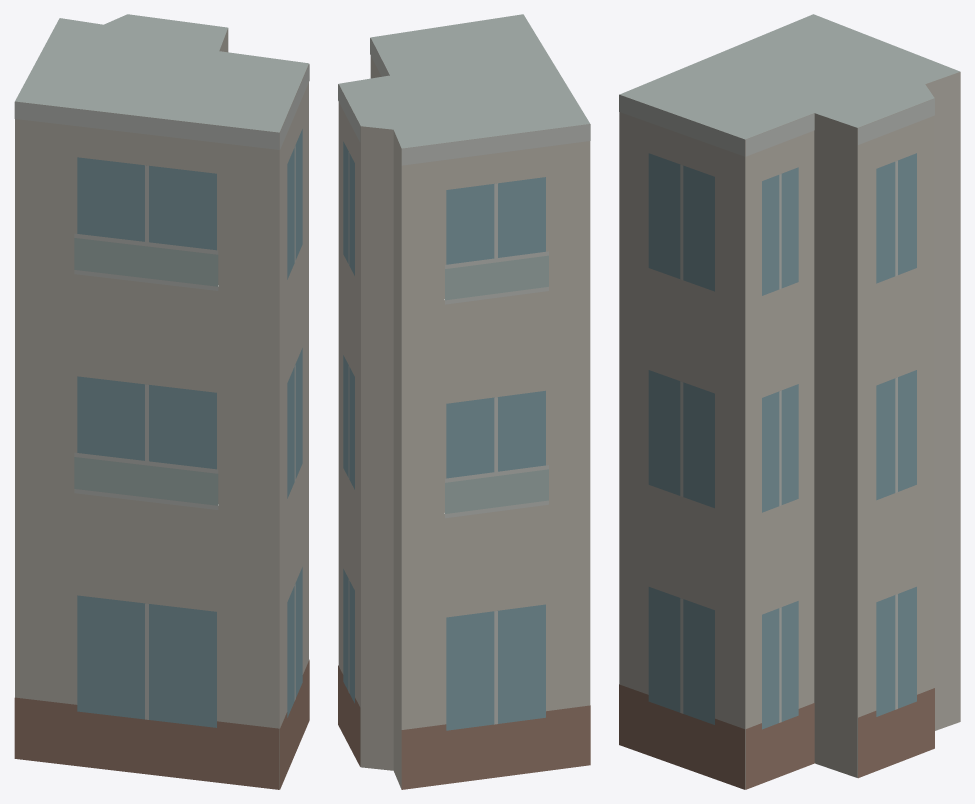
The model's file is survey-upis-32904626.glb.
3 views of the same model, side by side, from view 1: azimuth 30°, elevation 25°; view 2: azimuth 150°, elevation 25°; view 3: azimuth 270°, elevation 25° (orthographic). The views are drawn at different scales.
Parts seen in each view (by area): view 1: survey-upis-32904626.tmp; view 2: survey-upis-32904626.tmp; view 3: survey-upis-32904626.tmp.
Boxes of the visible parts, x1,y1,x2,y2 form: survey-upis-32904626.tmp: (14, 14, 309, 789); survey-upis-32904626.tmp: (338, 14, 590, 789); survey-upis-32904626.tmp: (619, 14, 960, 789).
Size of the model in its own units: 3.79 by 9.15 by 4.36.
